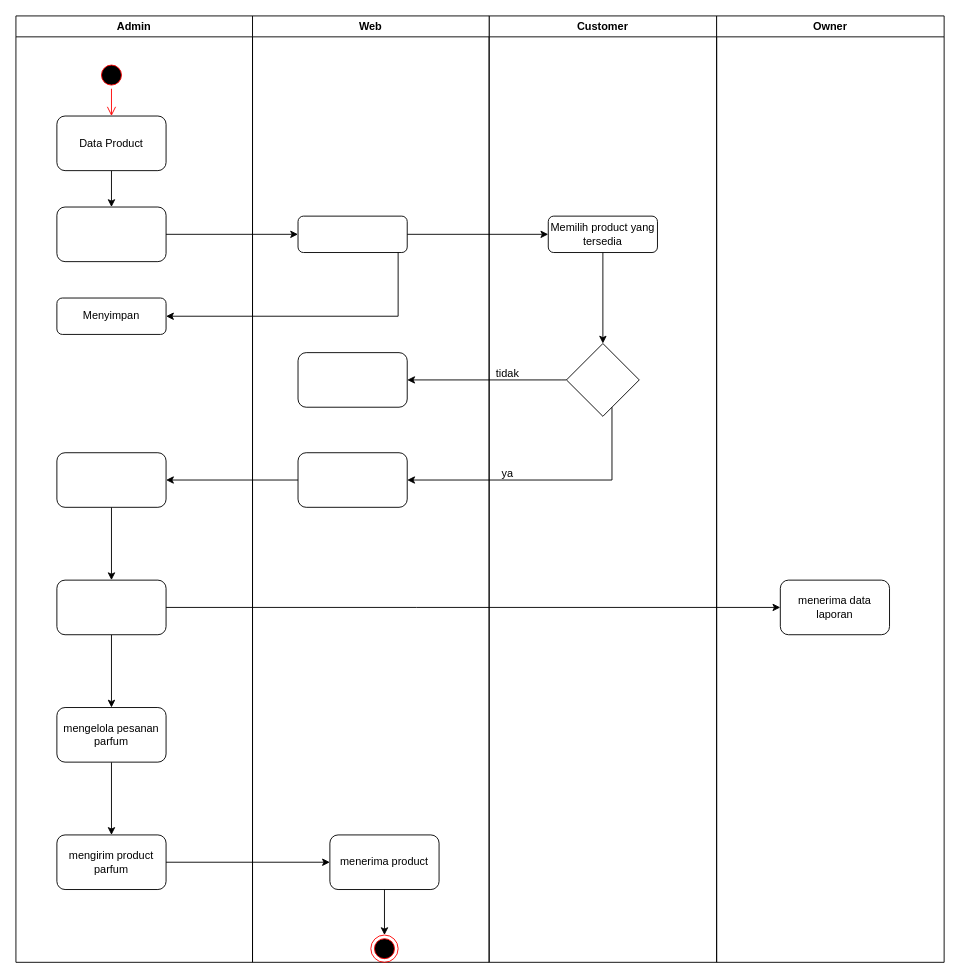
The diagram is 960 pixels wide and 978 high, and some of its shapes have lost their labels. Each missing label, with the centre of its shape:
"Masuk keranjang" goes at pixel 352 479.
"Membuat laporan data" goes at pixel 111 607.
"Menambah" goes at pixel 111 234.
"menampilkan data product parfum" goes at pixel 352 234.
"menampilkann menu utama" goes at pixel 352 379.
"Mengelola pesanan" goes at pixel 111 479.
